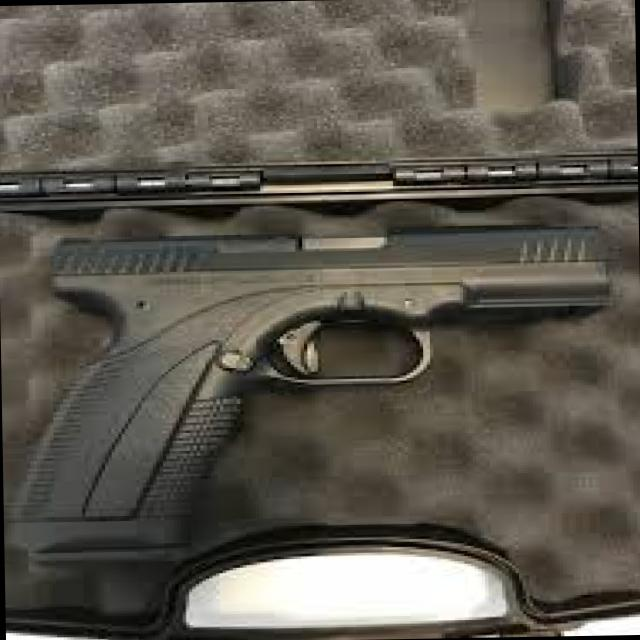Gun: (0, 208, 607, 592)
